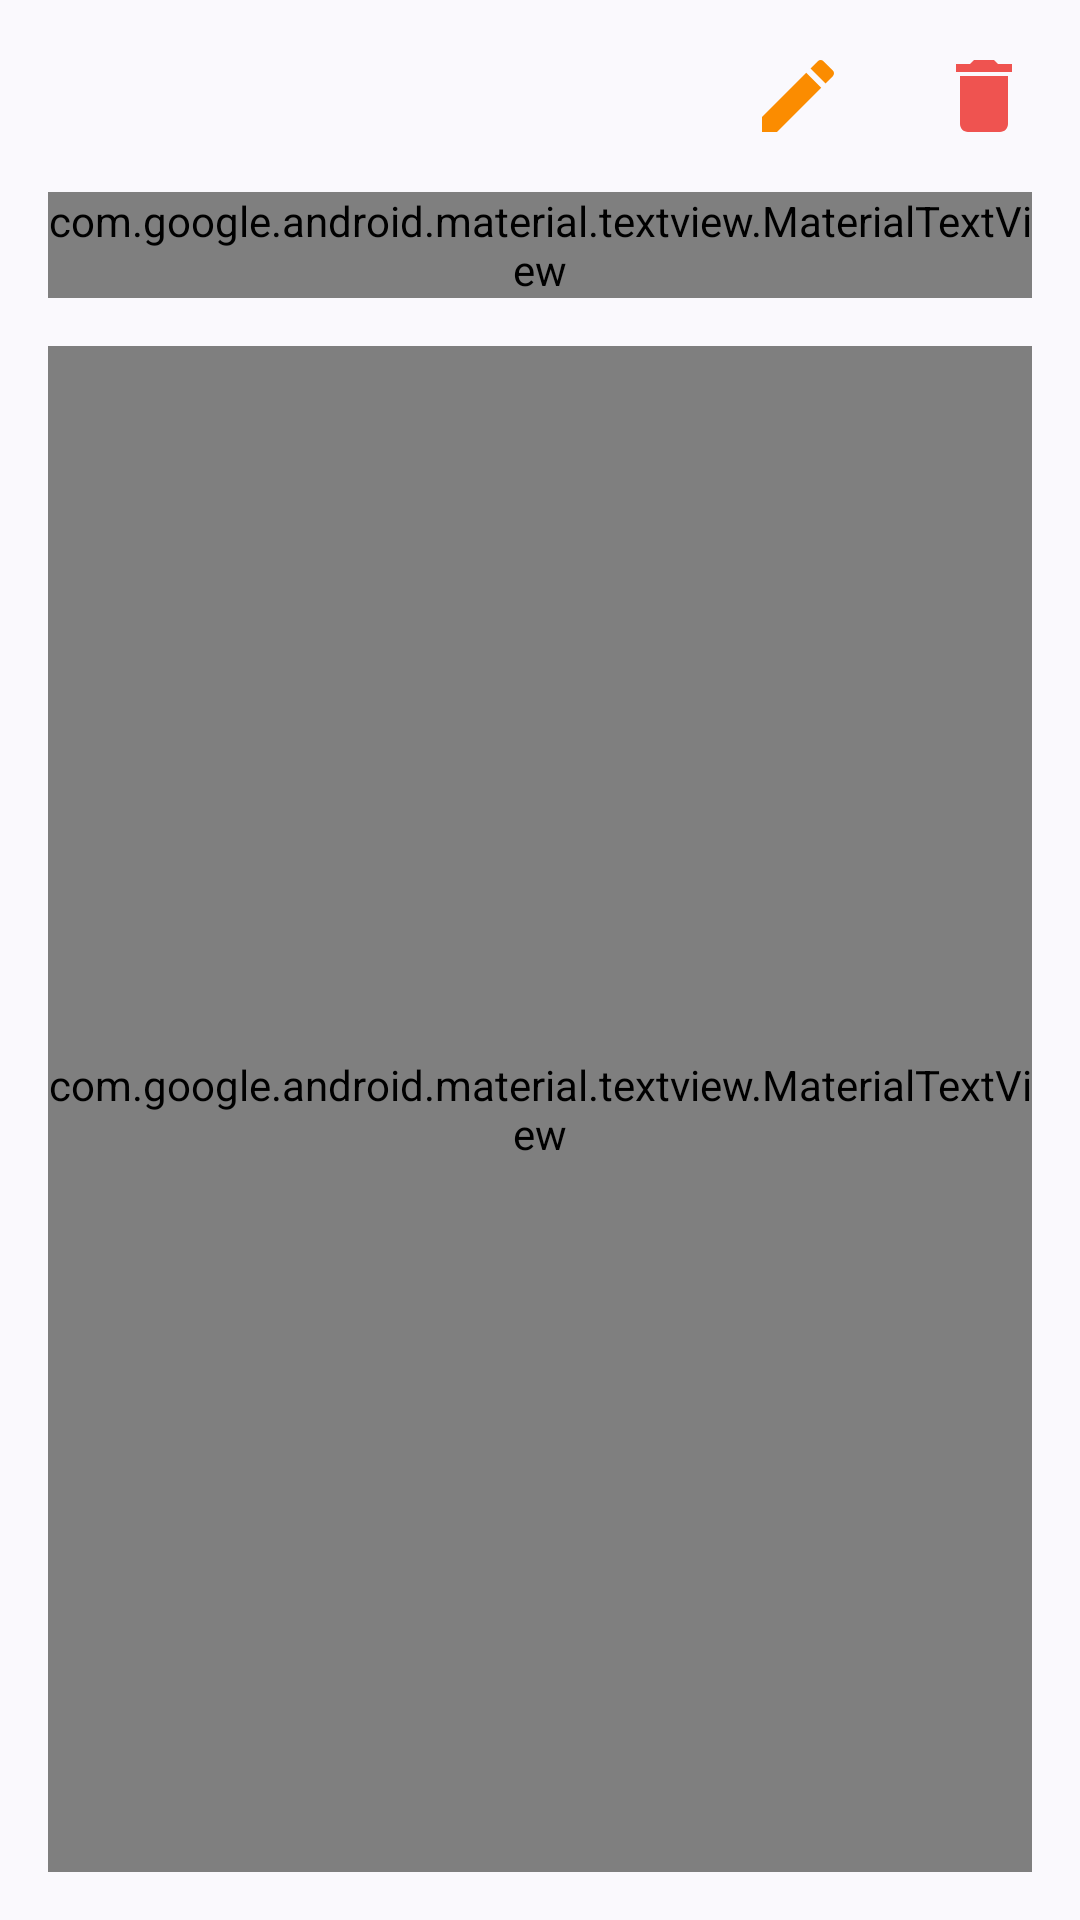

Where icons sit on this 1080px x 1920px app screen, as (x1, y1, x2, y2):
delete: (956, 60, 1012, 132)
edit: (762, 60, 834, 132)
